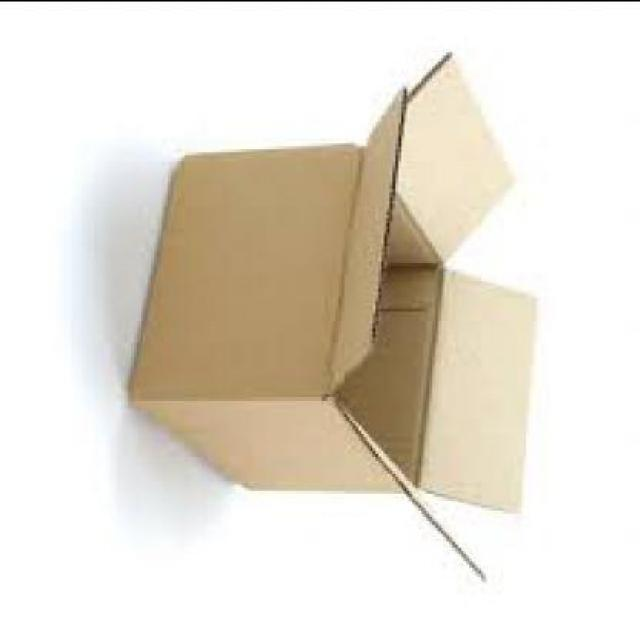box: (131, 53, 543, 579)
